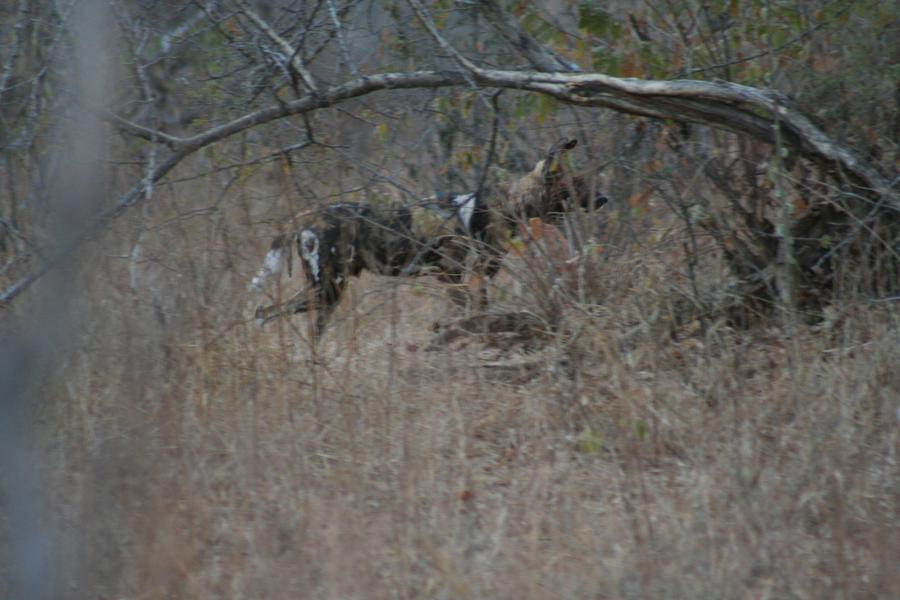wilddog: (284, 146, 577, 280)
